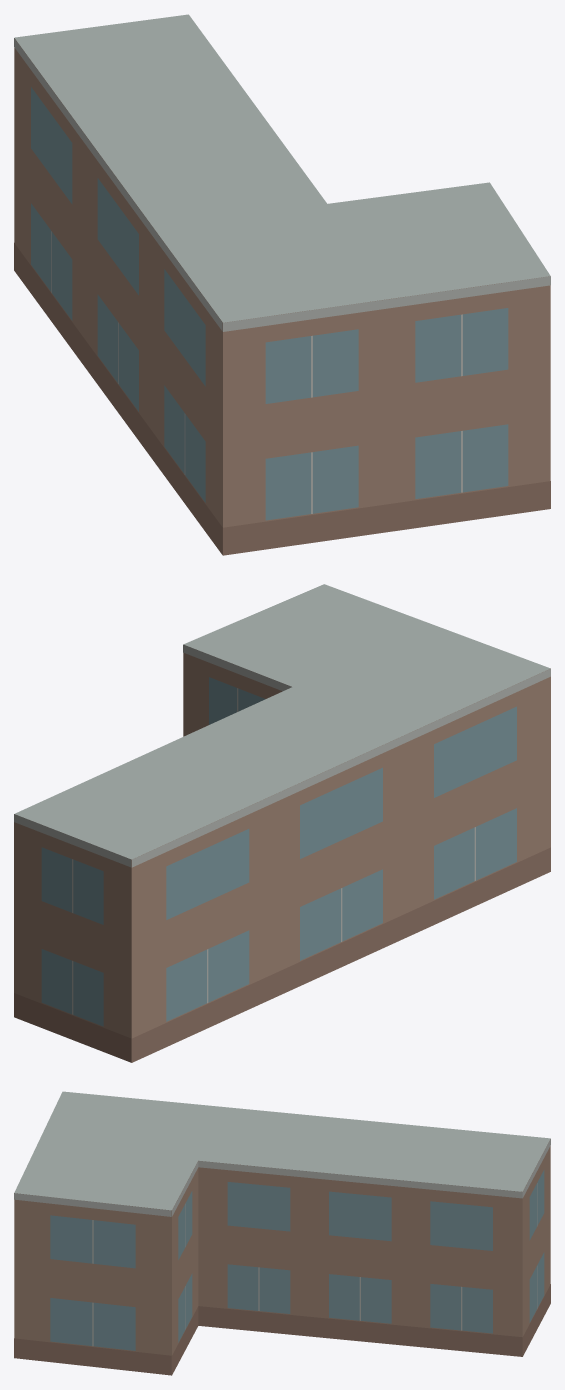
Rendered from survey-upis-32963137.glb.
3 renders of one model, top to bottom at view 1: azimuth 30°, elevation 25°; view 2: azimuth 150°, elevation 25°; view 3: azimuth 270°, elevation 25°, orthographic. The views are drawn at different scales.
Parts seen in each view (by area): view 1: survey-upis-32963137.tmp; view 2: survey-upis-32963137.tmp; view 3: survey-upis-32963137.tmp.
Boxes of the visible parts, box(x1,y1,x2,y2) form: survey-upis-32963137.tmp: box(14, 14, 550, 555); survey-upis-32963137.tmp: box(14, 584, 550, 1062); survey-upis-32963137.tmp: box(14, 1091, 550, 1375).
Size of the model in its own units: 9.44 by 6.1 by 17.99.
